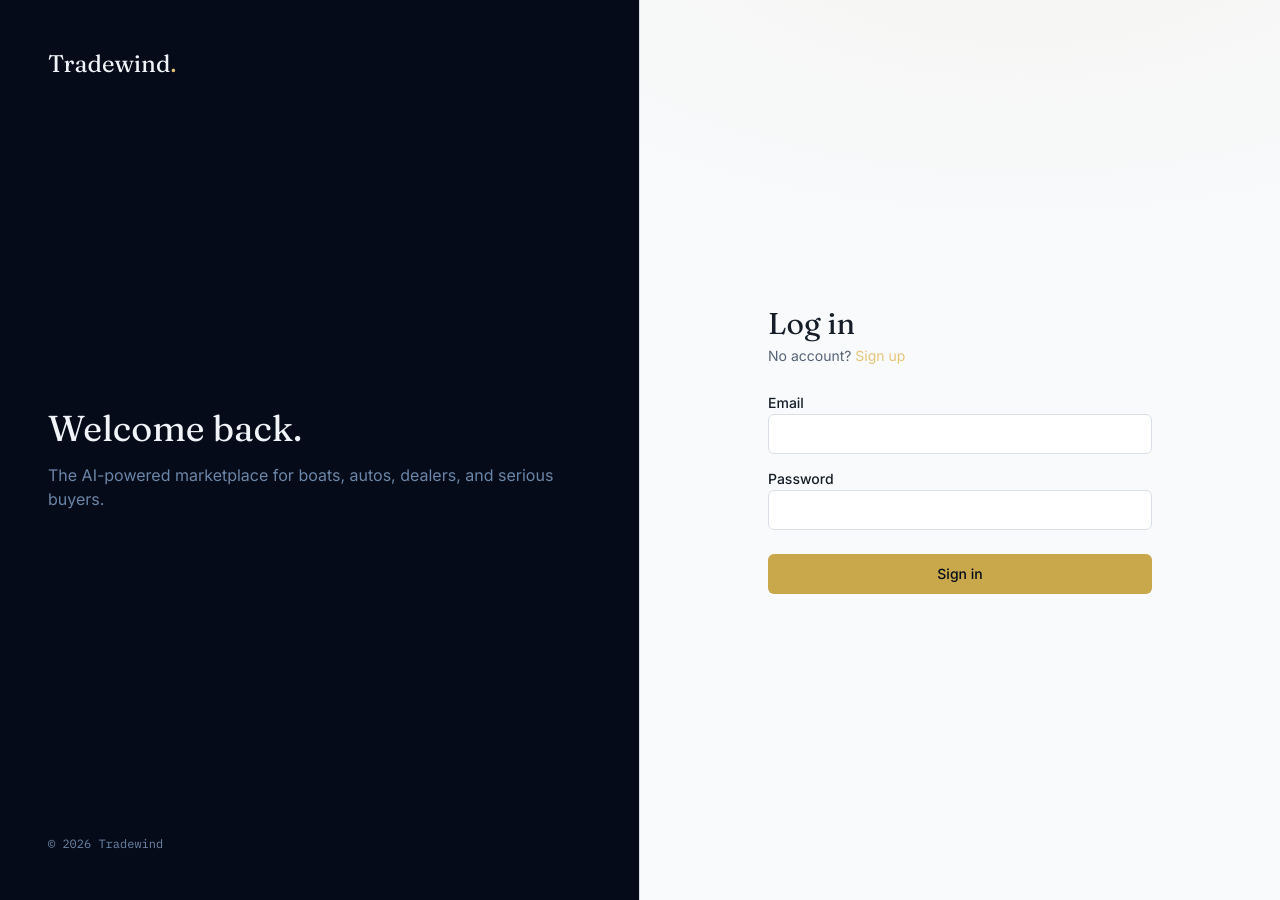
Test: Form validation › Login shows email validation error on bad submit
Click the button "Sign in".
click(960, 574)  # box [768,554,1152,594]
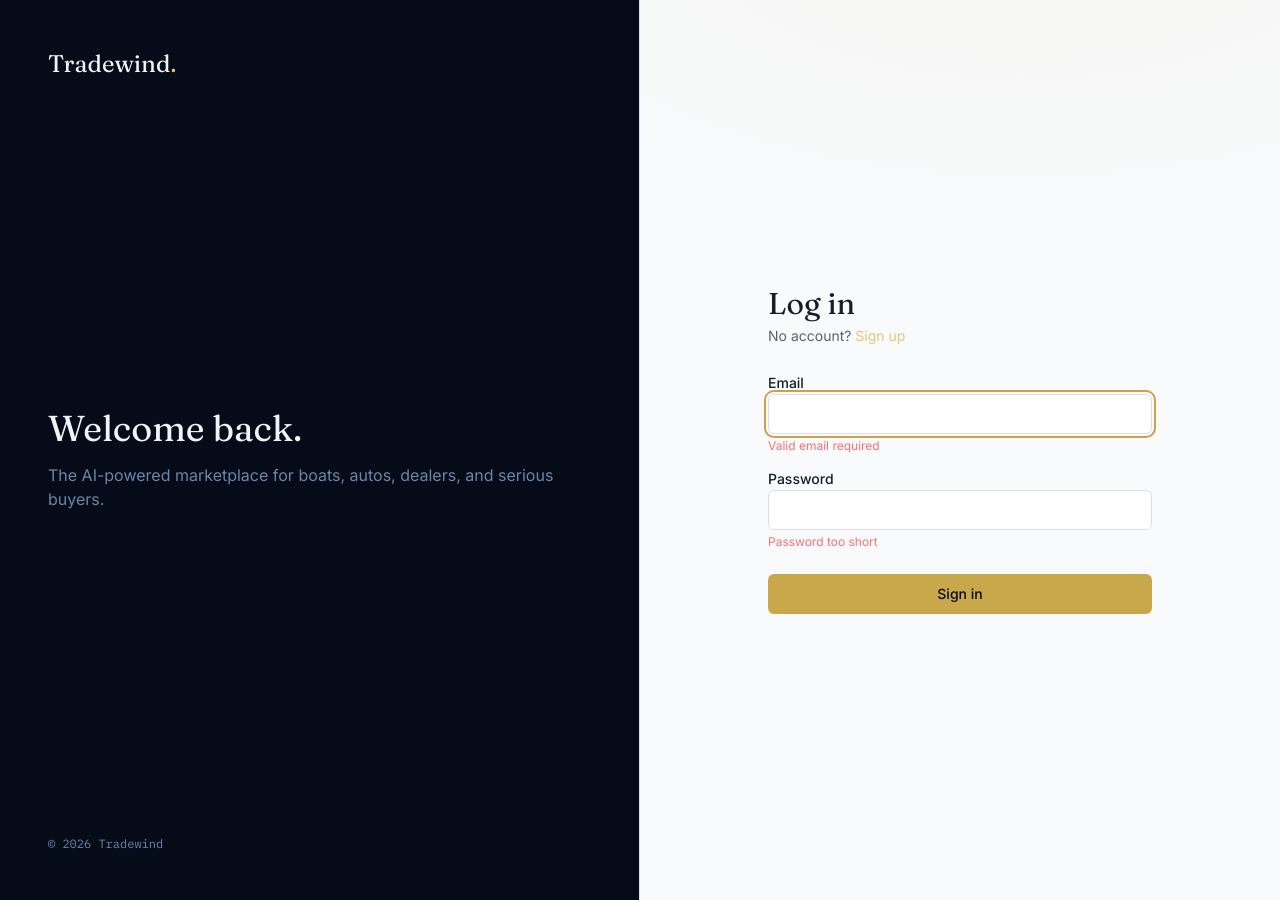
Result: the text "Valid email required" is shown at [768,438,880,453]
